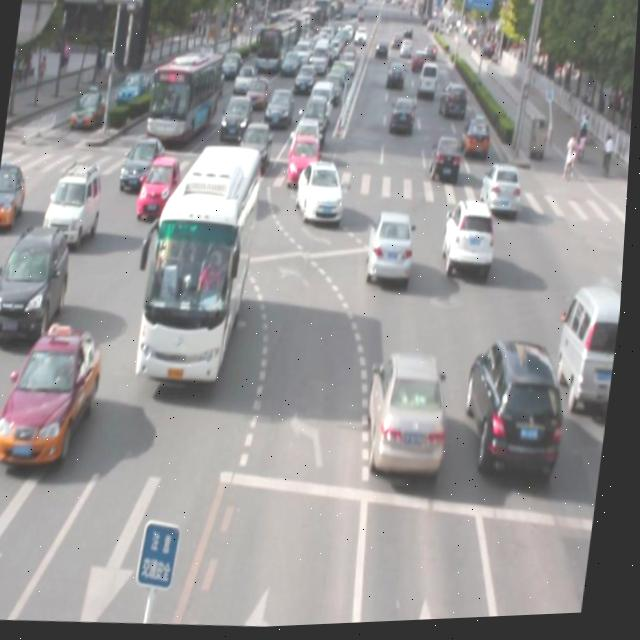car: (460, 337, 574, 485), (0, 323, 110, 472), (365, 351, 457, 480), (0, 220, 78, 344), (44, 158, 107, 247), (441, 199, 501, 281), (365, 209, 419, 289), (294, 166, 349, 233), (137, 153, 181, 222), (479, 162, 524, 219), (121, 137, 165, 195)
truck: (555, 285, 626, 419)
van: (137, 141, 264, 386)
